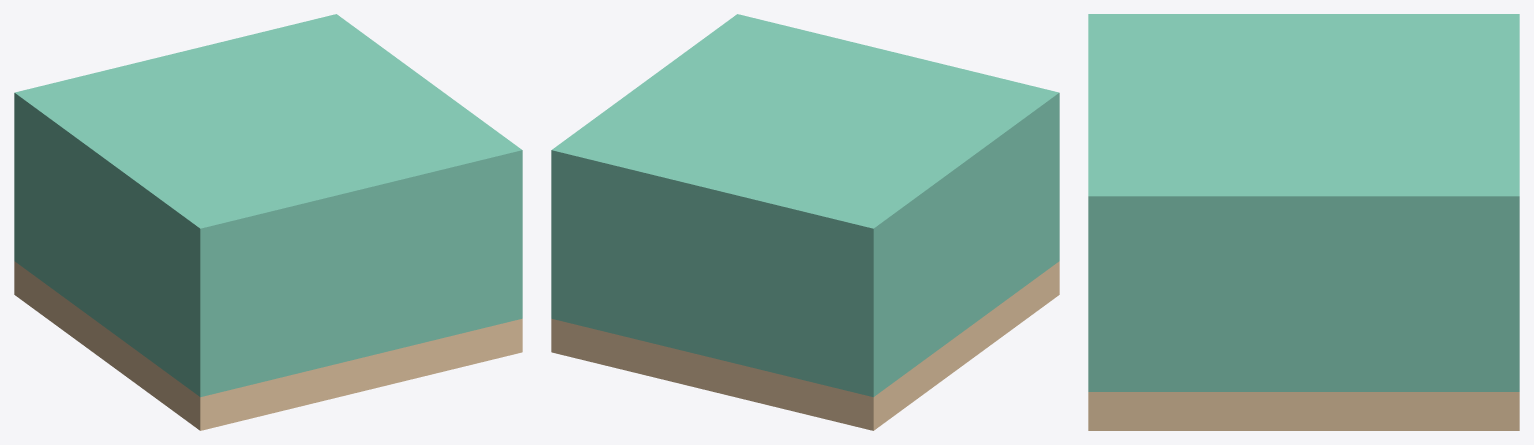
Rendered from GreenHigh.fbx.
3 views of the same model, side by side, from view 1: azimuth 30°, elevation 25°; view 2: azimuth 150°, elevation 25°; view 3: azimuth 270°, elevation 25° (orthographic). The views are drawn at different scales.
Visible parts, largest first — view 1: tile; view 2: tile; view 3: tile.
Part boxes in pixels (left/top/right/bottom): tile: left=14, top=14, right=522, bottom=430; tile: left=551, top=14, right=1059, bottom=430; tile: left=1088, top=14, right=1519, bottom=430.
Size of the model in its own units: 100 by 60 by 100.
